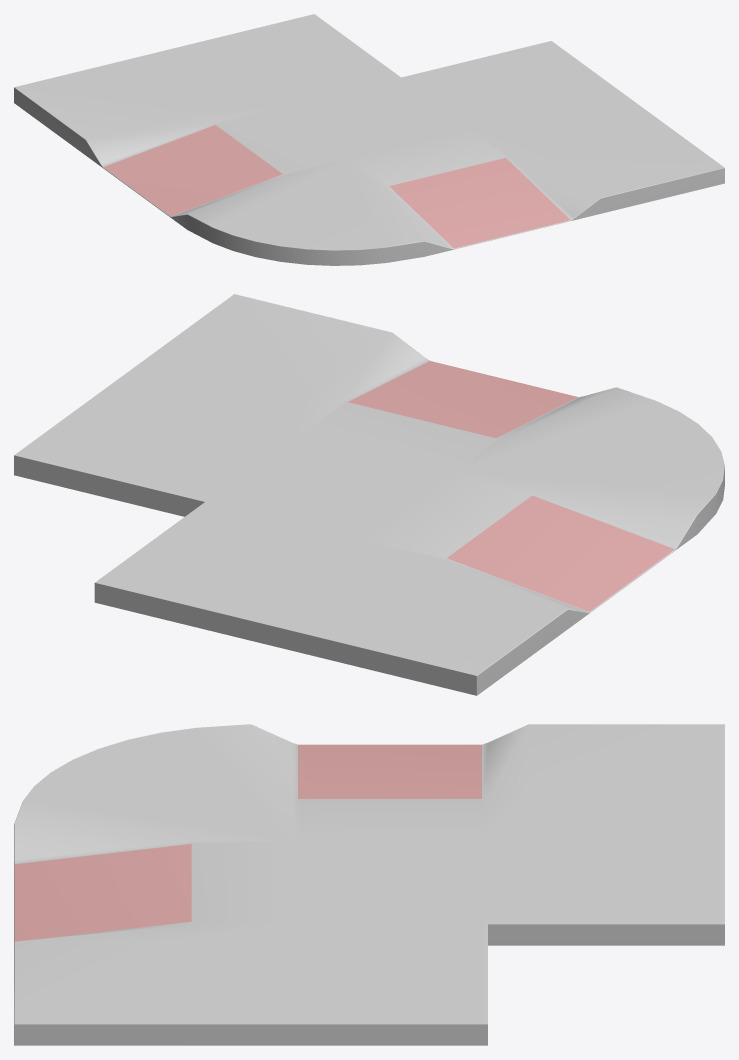
File: pedestrianRamp.fbx
3 views of the same model, one above another, from view 1: azimuth 30°, elevation 25°; view 2: azimuth 150°, elevation 25°; view 3: azimuth 270°, elevation 25° (orthographic). The views are drawn at different scales.
Visible parts, largest first — view 1: pedestrianRamp_geo; view 2: pedestrianRamp_geo; view 3: pedestrianRamp_geo.
Part boxes in pixels (bbox=[...]): pedestrianRamp_geo: bbox=[14, 14, 724, 265]; pedestrianRamp_geo: bbox=[14, 294, 724, 695]; pedestrianRamp_geo: bbox=[14, 724, 724, 1045].
Size of the model in its own units: 600 by 20 by 600.
